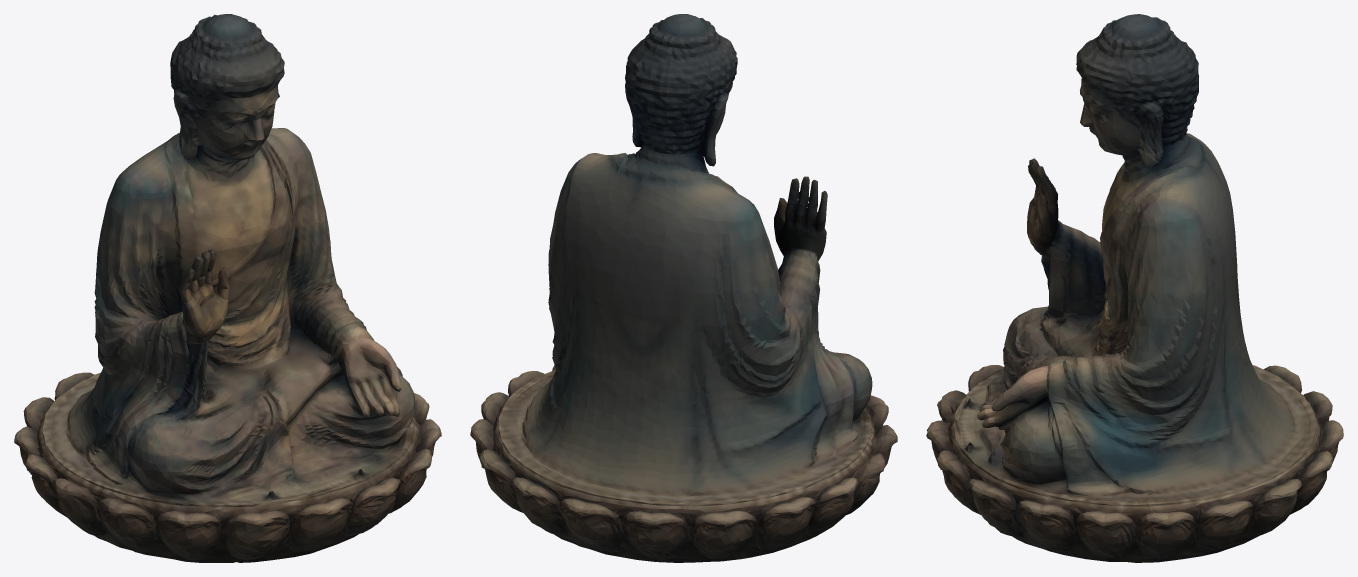
File: Sample_Low.glb
The picture shows the model from 3 angles, left to right: view 1: azimuth 30°, elevation 25°; view 2: azimuth 150°, elevation 25°; view 3: azimuth 270°, elevation 25°; orthographic projection.
Visible parts, largest first — view 1: big buddha_copy001; view 2: big buddha_copy001; view 3: big buddha_copy001.
Boxes of the visible parts, x1,y1,x2,y2 form: big buddha_copy001: (14,14,441,562); big buddha_copy001: (470,14,897,562); big buddha_copy001: (926,14,1343,562).
Size of the model in its own units: 60.42 by 75 by 59.45.
1 material, 1 textured.
